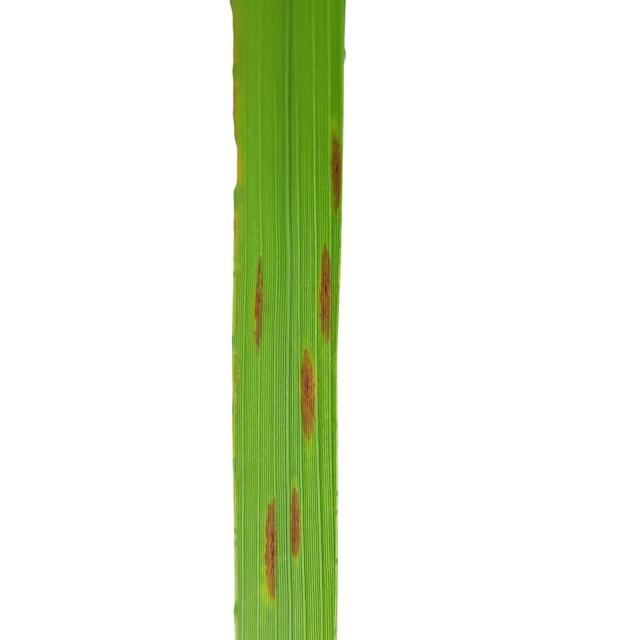Narrow brown: (188, 0, 452, 640)
